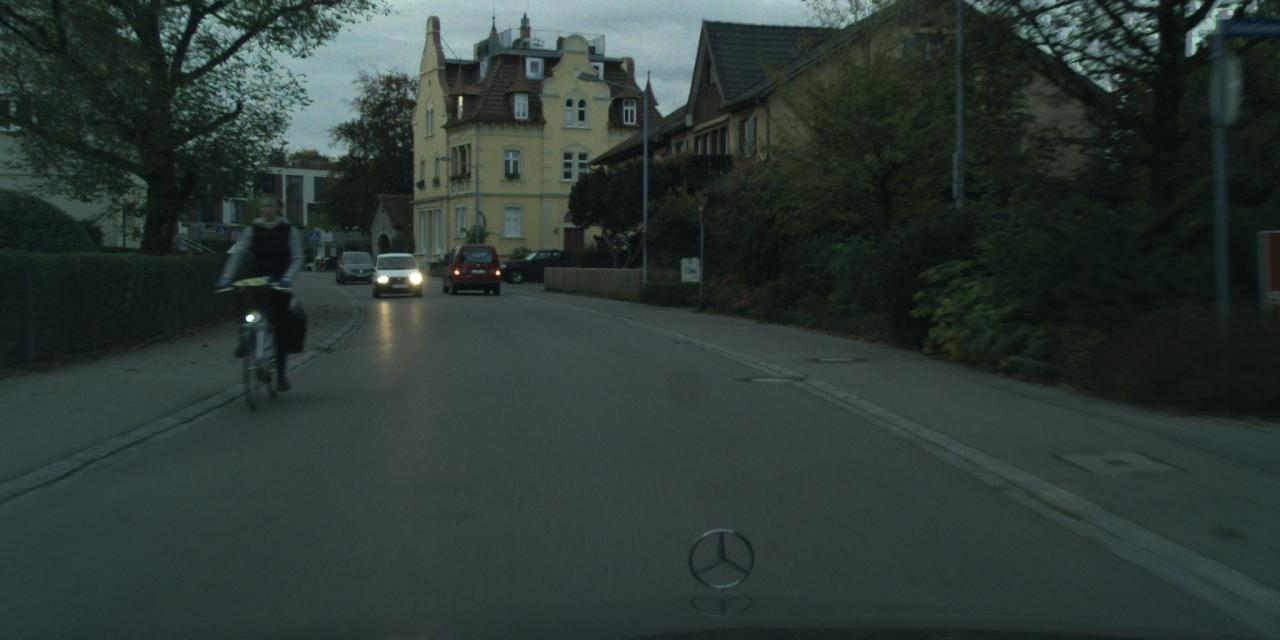ped: (231, 194, 303, 371)
